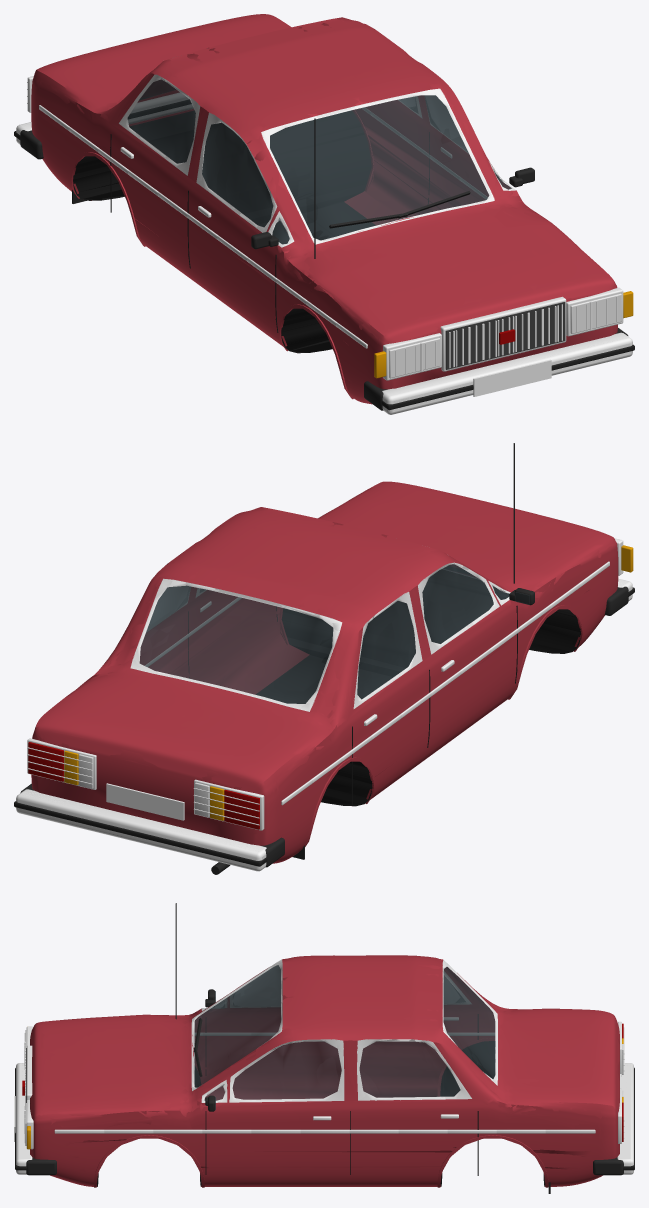
The model's file is vaz2107.glb.
3 views of the same model, one above another, from view 1: azimuth 30°, elevation 25°; view 2: azimuth 150°, elevation 25°; view 3: azimuth 270°, elevation 25° (orthographic). The views are drawn at different scales.
Parts seen in each view (by area): view 1: LOD_hi, LOD0; view 2: LOD_hi, LOD0; view 3: LOD_hi, LOD0.
Part boxes in pixels (x1,y1,x2,y2): LOD_hi: [14, 14, 634, 414]; LOD0: [16, 15, 633, 411]; LOD_hi: [14, 443, 634, 874]; LOD0: [21, 444, 634, 873]; LOD_hi: [14, 903, 634, 1193]; LOD0: [14, 903, 630, 1185].
Size of what is drawn, in the model's own units: 1.89 by 1.6 by 4.38.
